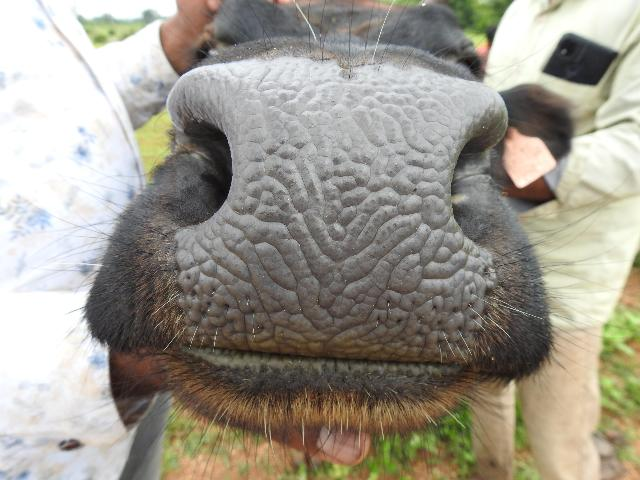Muzzle: (176, 60, 486, 354)
